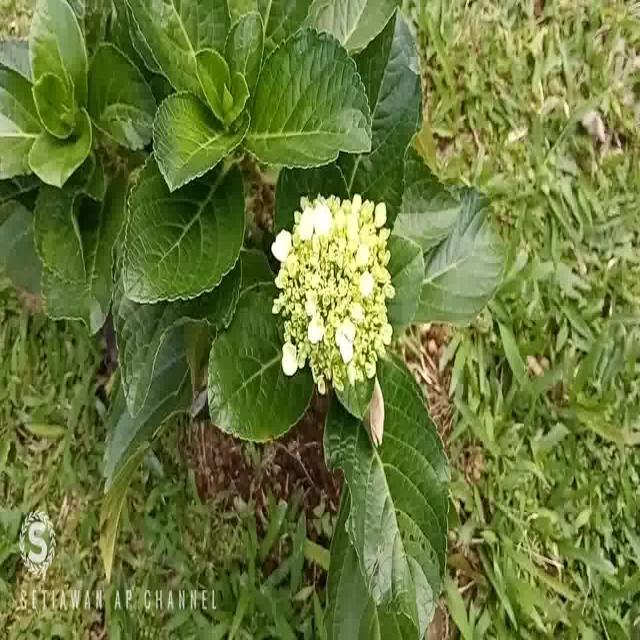Flower: (271, 175, 405, 417)
